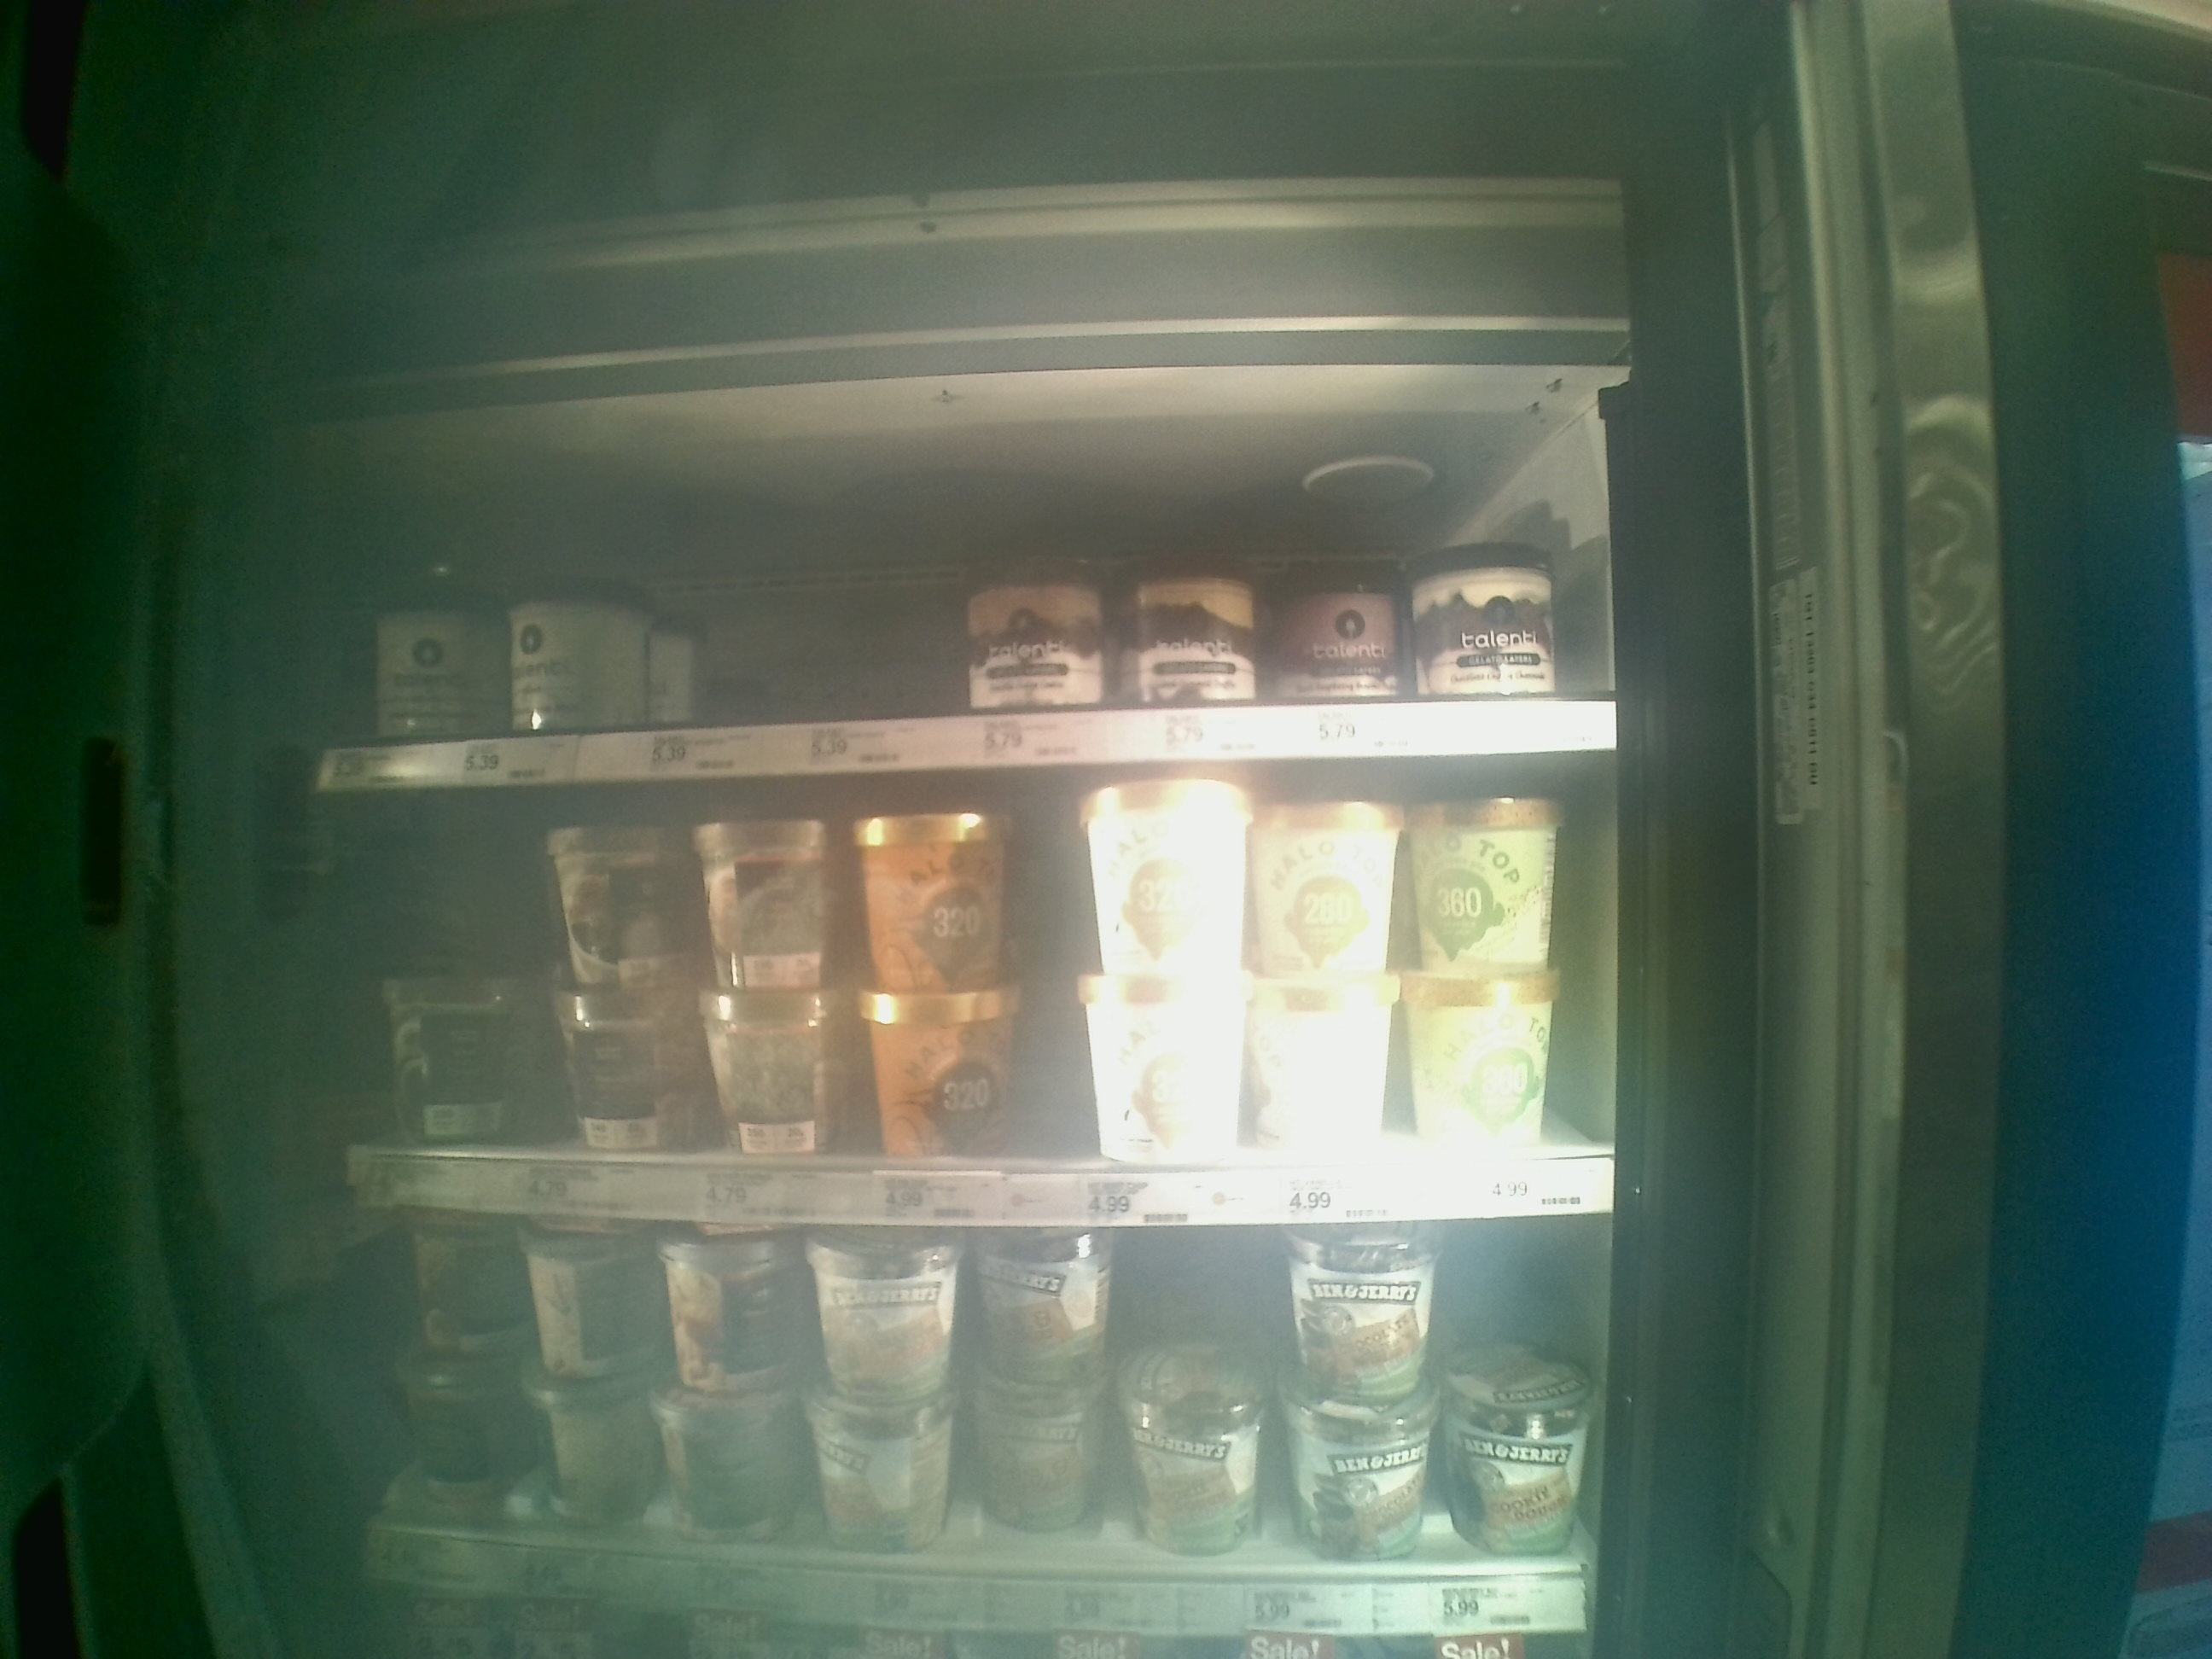shelf: (315, 769, 1649, 1218), (308, 1220, 1611, 1640), (315, 430, 1616, 782)
